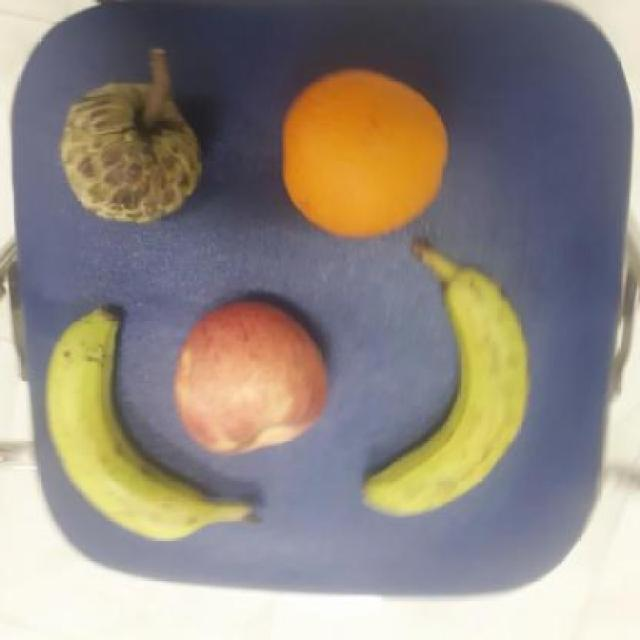apple: (168, 296, 328, 461)
banana: (356, 266, 536, 526), (40, 300, 212, 548)
oren: (280, 68, 454, 247)
sugar apple: (53, 82, 209, 226)
